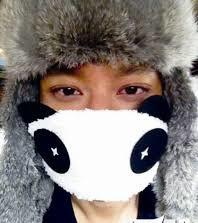OK: (36, 75, 164, 203)
